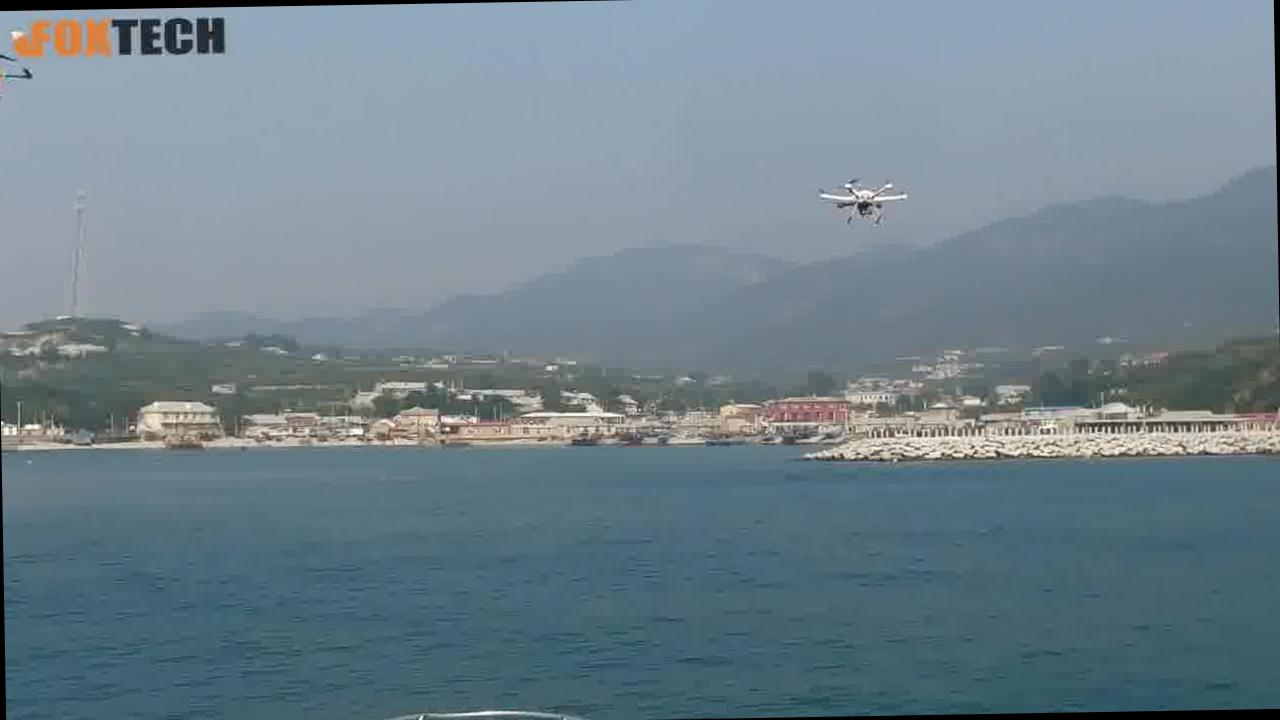drone: (820, 164, 926, 232)
